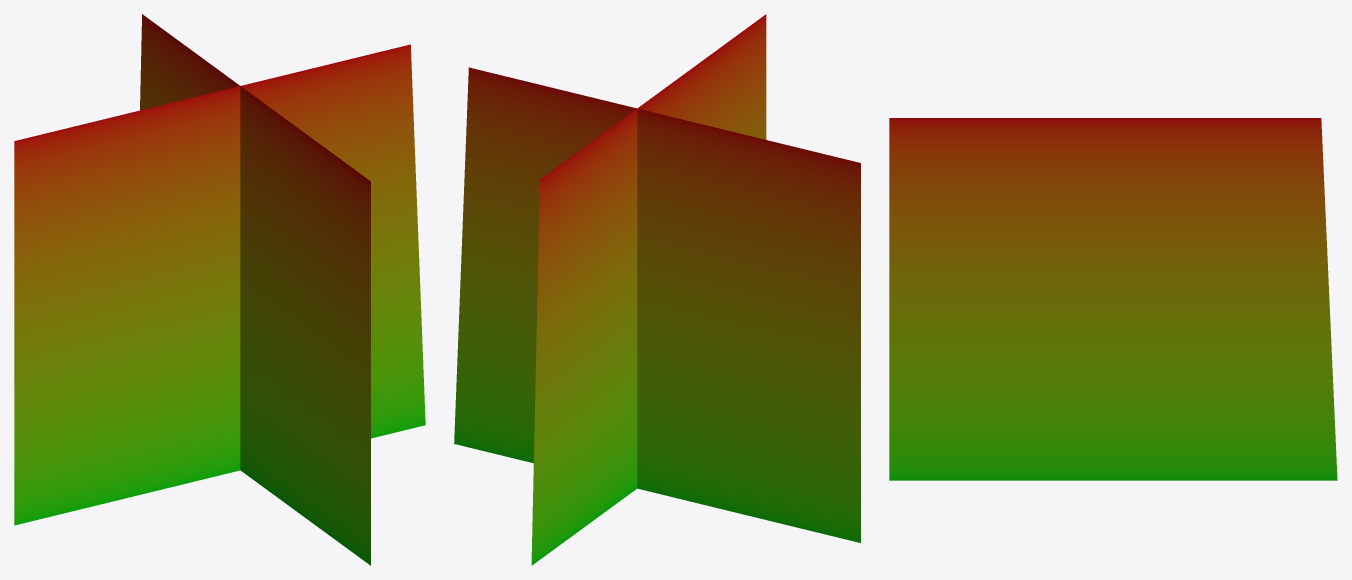
File: Dead Shrubs_LOD4_Var4_vdknafgha.fbx
3 renders of one model, left to right at view 1: azimuth 30°, elevation 25°; view 2: azimuth 150°, elevation 25°; view 3: azimuth 270°, elevation 25°, orthographic. The views are drawn at different scales.
Parts seen in each view (by area): view 1: _6pti_Var4_LOD4; view 2: _6pti_Var4_LOD4; view 3: _6pti_Var4_LOD4.
Part boxes in pixels (x1,y1,x2,y2): _6pti_Var4_LOD4: (14, 14, 425, 565); _6pti_Var4_LOD4: (454, 14, 860, 565); _6pti_Var4_LOD4: (889, 118, 1337, 480).
Bounding box in the file's own units: 58.61 × 52.34 × 58.61.
